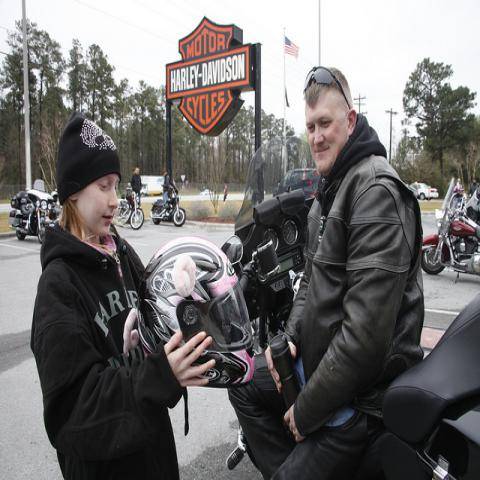car: (274, 166, 320, 199), (410, 183, 439, 200)
motorcycle: (224, 131, 480, 479), (422, 177, 479, 285), (7, 179, 55, 244), (151, 184, 186, 226), (454, 184, 480, 225), (125, 182, 145, 230), (112, 199, 132, 225)
